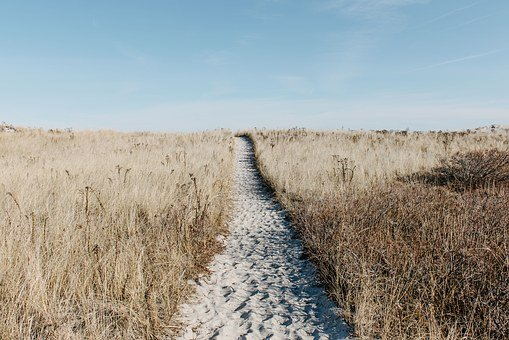field: (8, 123, 509, 334)
sky: (4, 2, 507, 127)
